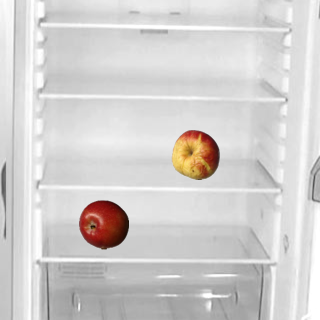Apple Braeburn: (78, 199, 128, 249)
Apple Red Yellow 1: (170, 129, 220, 179)
